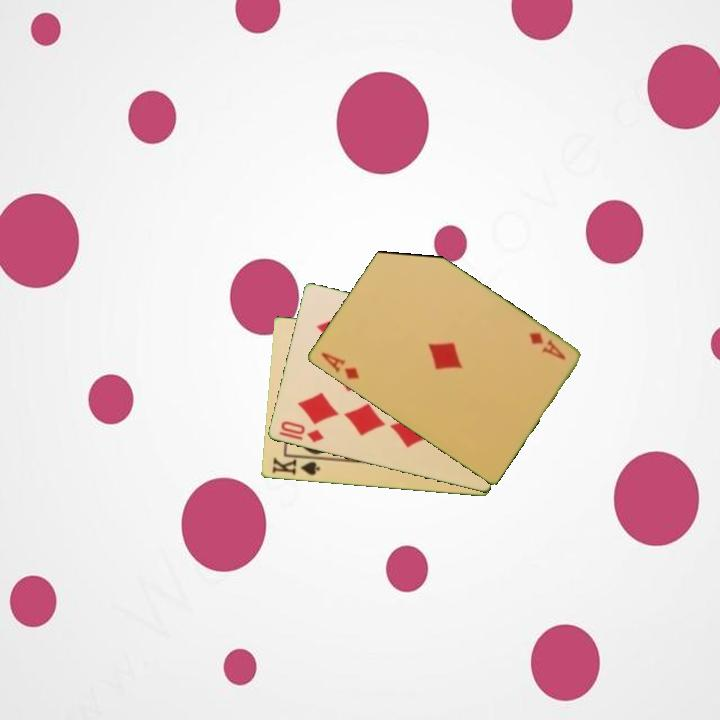10d: (277, 417, 327, 446)
Ad: (317, 349, 362, 382), (525, 329, 568, 363)
Ks: (268, 453, 324, 478)
